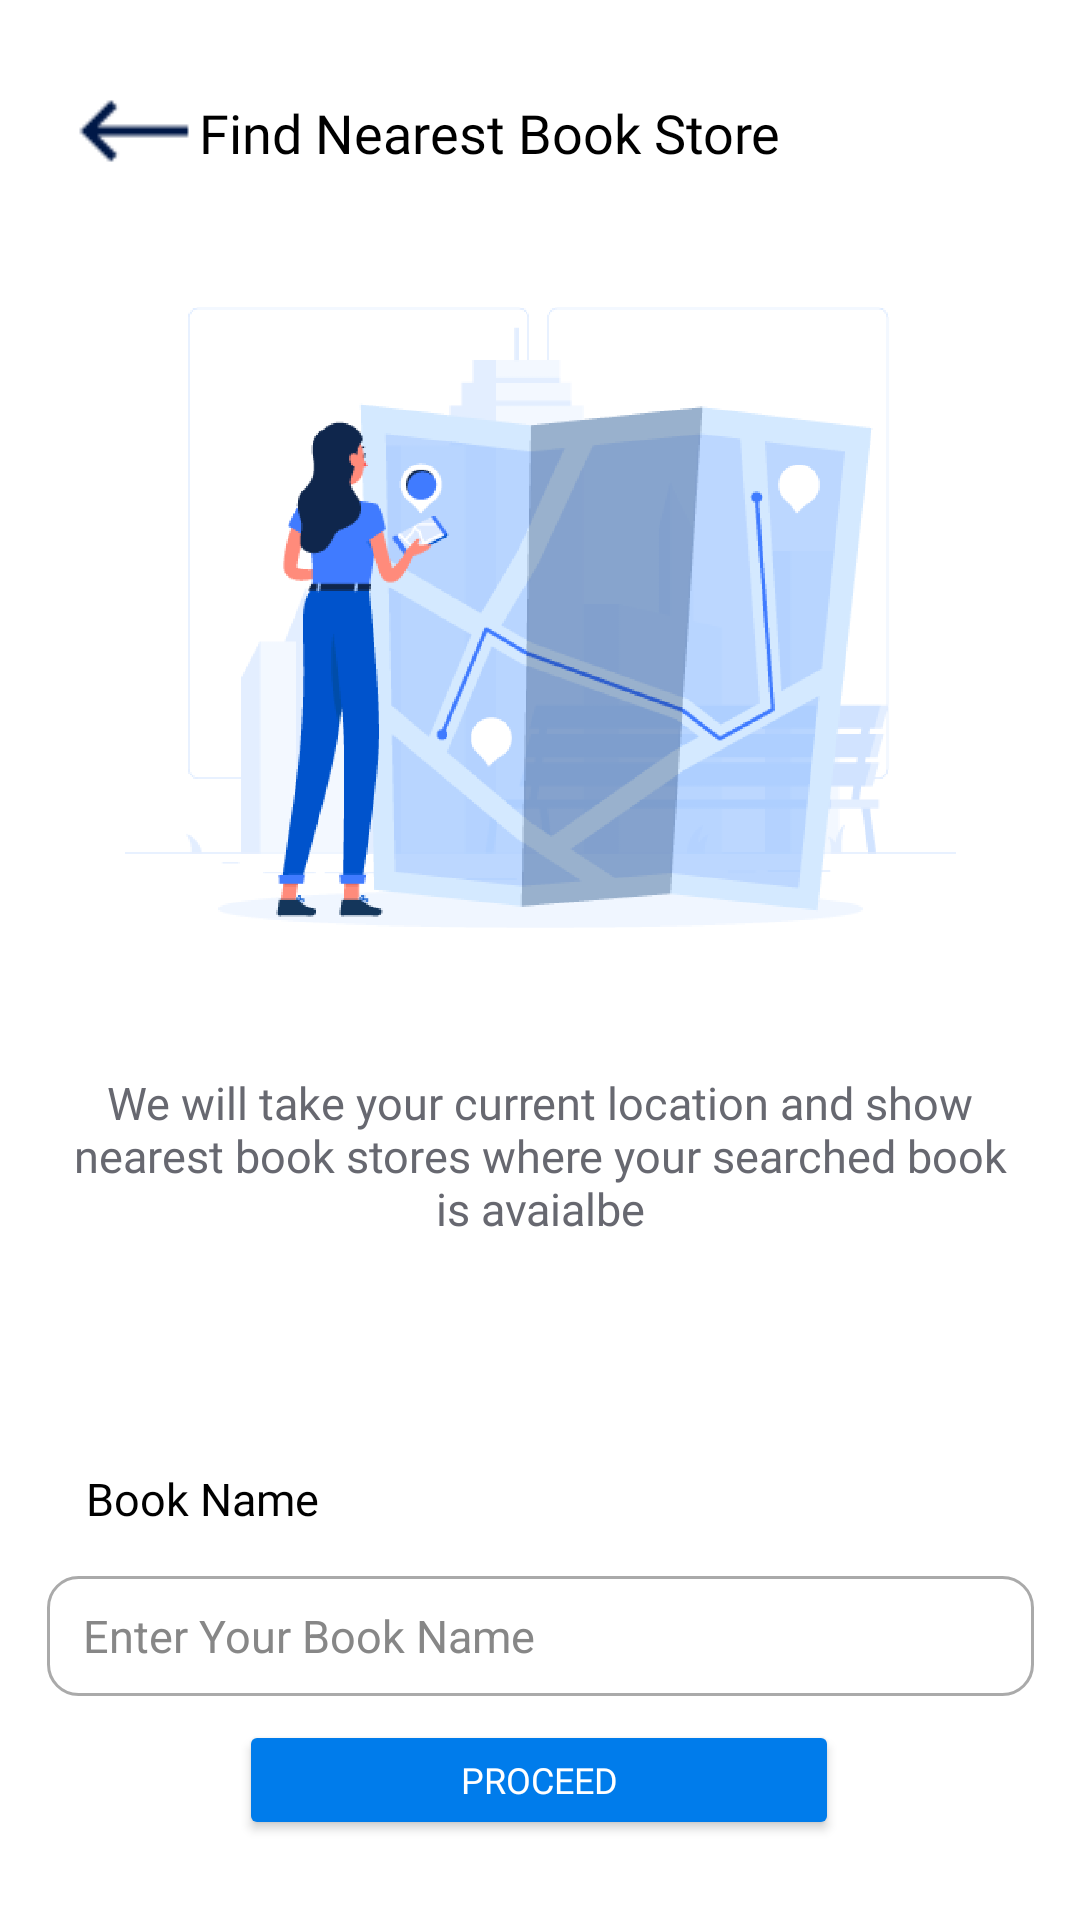

Where icons sit on this 1080 x 1920 app screen, as (x1, y1, x2, y2):
arrow back: (79, 100, 189, 162)
